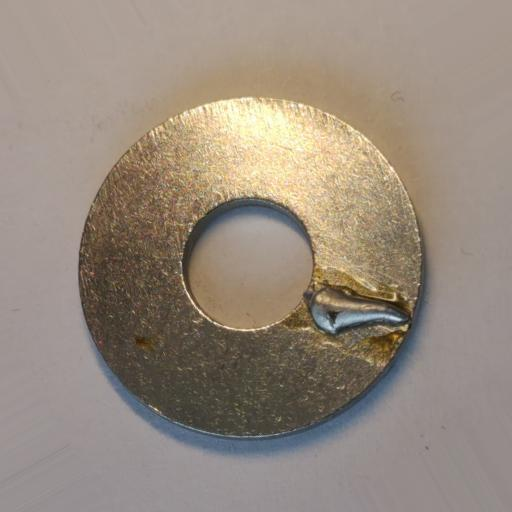excess_material: (303, 283, 413, 334)
